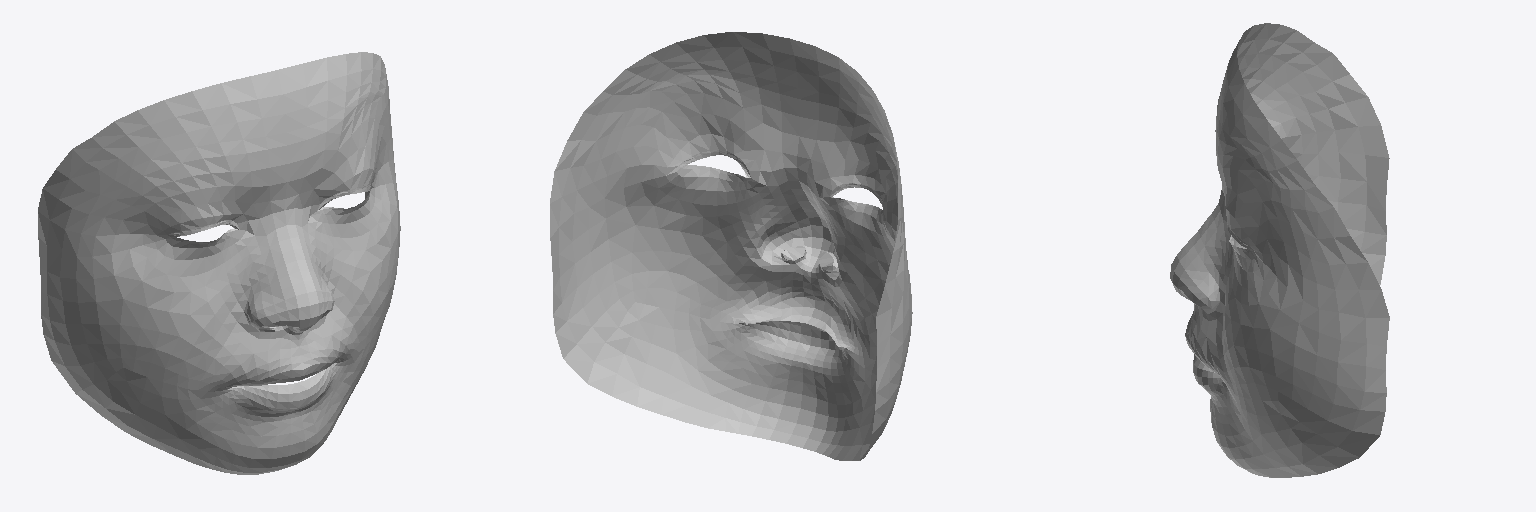
The model's file is browOuterUp_L.obj.
3 renders of one model, left to right at view 1: azimuth 30°, elevation 25°; view 2: azimuth 150°, elevation 25°; view 3: azimuth 270°, elevation 25°, orthographic.
Visible parts, largest first — view 1: default; view 2: default; view 3: default.
Boxes of the visible parts, x1,y1,x2,y2 form: default: [38, 52, 400, 474]; default: [550, 32, 912, 460]; default: [1170, 23, 1389, 477].
Size of the model in its own units: 0.1624 by 0.1851 by 0.0913.